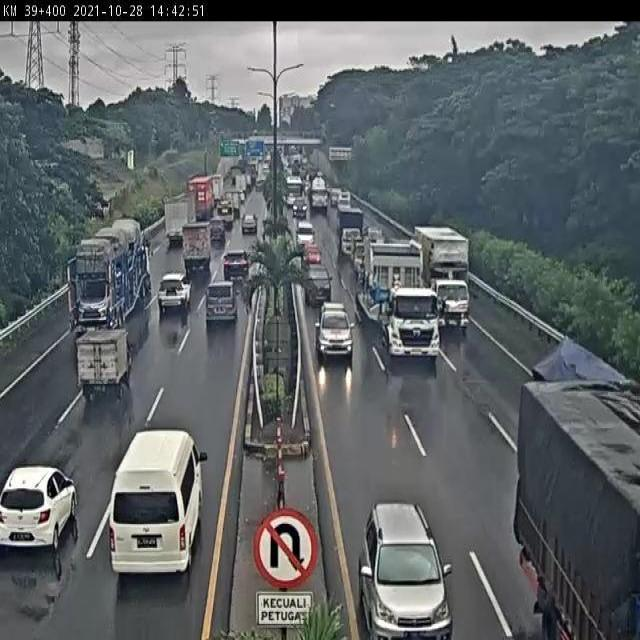ARABA: (358, 494, 450, 640), (0, 467, 76, 545), (316, 300, 353, 353), (302, 265, 333, 308), (204, 277, 234, 320), (160, 272, 191, 308), (222, 250, 250, 278), (303, 244, 325, 271)
KAMYONET: (75, 325, 133, 392), (336, 208, 369, 264), (183, 219, 212, 265)
OTOBUS: (107, 431, 209, 577)
TIR: (359, 235, 440, 356), (66, 216, 150, 331), (412, 225, 469, 328)
